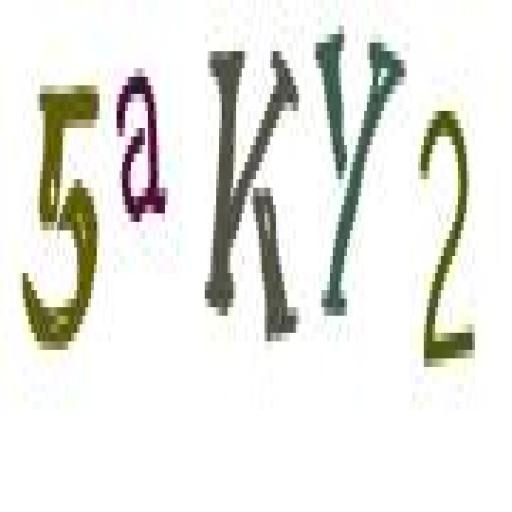2: (416, 80, 487, 387)
5: (20, 58, 104, 384)
K: (196, 21, 304, 360)
Y: (309, 10, 404, 332)
a: (114, 58, 172, 247)
